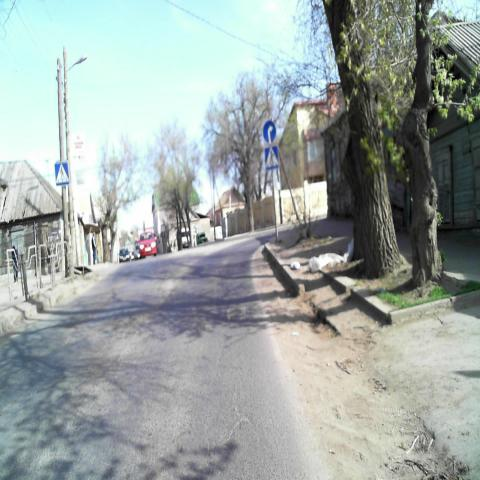4_1_2: (263, 120, 276, 145)
